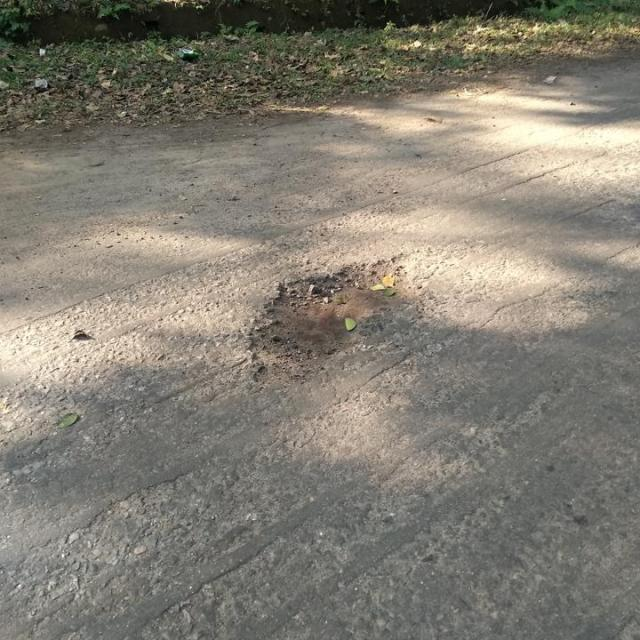pothole: (242, 248, 425, 388)
